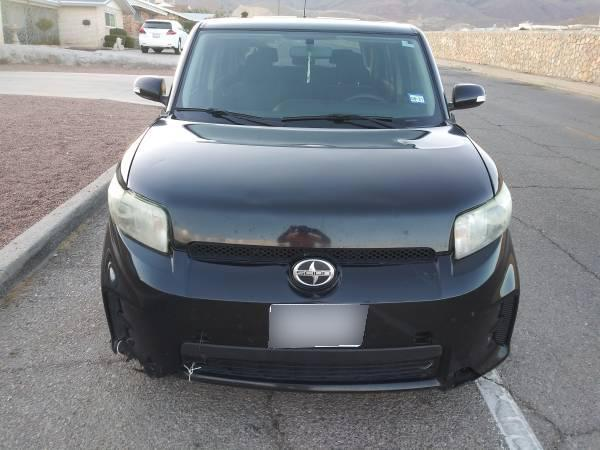Front_Bumper: (99, 226, 519, 385)
Front_Windshield: (167, 23, 449, 126)
Grille: (181, 343, 446, 390)
Hood: (120, 120, 501, 255)
Left_Headlight: (451, 175, 512, 259)
Left_Mirror: (452, 80, 488, 113)
Right_Headlight: (108, 171, 171, 257)
Right_Mirror: (134, 73, 167, 103)
